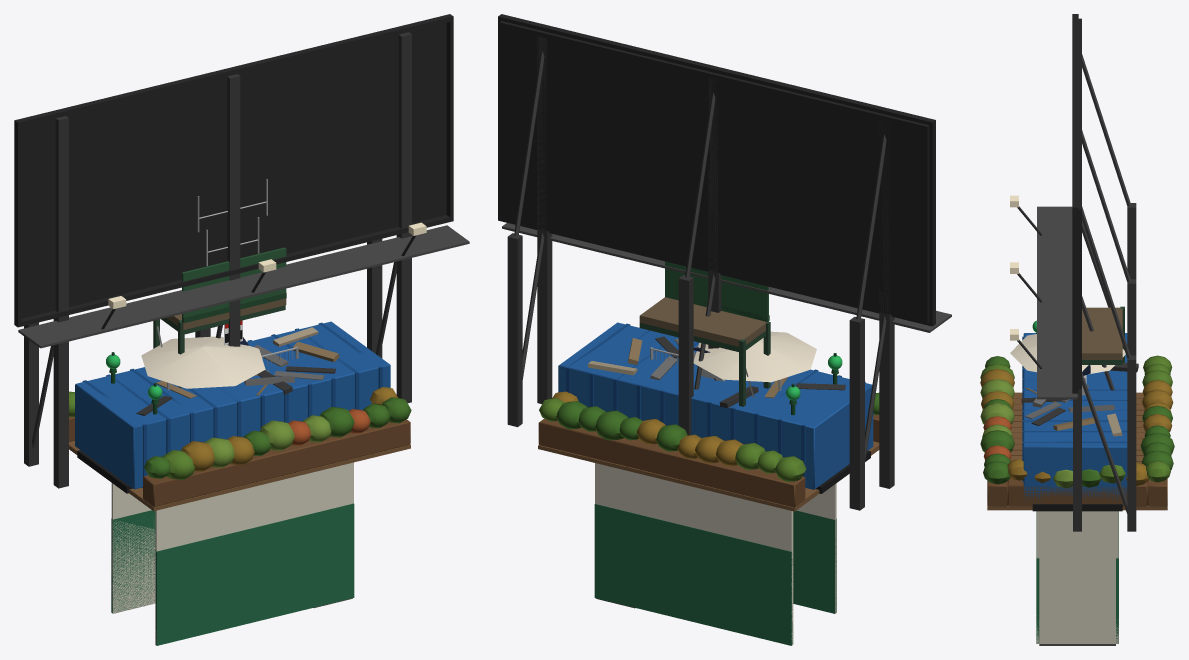
Rendered from props.gltf.
3 renders of one model, left to right at view 1: azimuth 30°, elevation 25°; view 2: azimuth 150°, elevation 25°; view 3: azimuth 270°, elevation 25°, orthographic. The views are drawn at different scales.
Visible parts, largest first — view 1: billboard, subwaypit, rolloff, garden, shed; view 2: billboard, subwaypit, rolloff, garden, shed; view 3: billboard, garden, subwaypit, rolloff, shed.
Part boxes in pixels (x1,y1,x2,y2): billboard: (14, 14, 469, 488); subwaypit: (111, 462, 354, 645); rolloff: (75, 321, 390, 493); garden: (69, 336, 411, 511); shed: (153, 247, 286, 387); billboard: (498, 14, 951, 510); subwaypit: (594, 463, 836, 645); rolloff: (558, 322, 873, 493); garden: (538, 331, 879, 511); shed: (639, 261, 770, 406); billboard: (1010, 14, 1136, 531); garden: (980, 334, 1174, 510); subwaypit: (1036, 511, 1118, 645); rolloff: (1021, 333, 1138, 511); shed: (1082, 306, 1124, 364).
Size of the model in its own units: 10.16 by 12.03 by 4.32.
